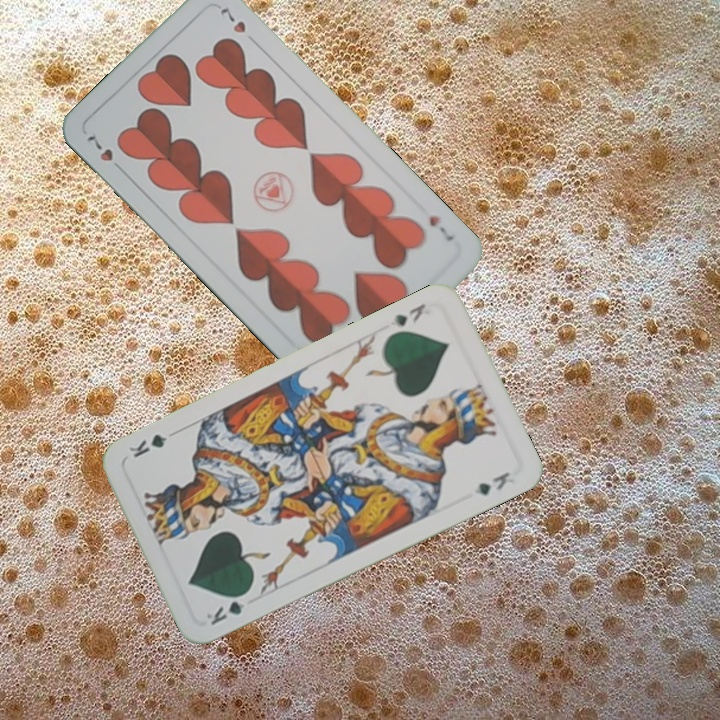GK: (202, 587, 253, 628), (386, 299, 428, 329)
H7: (82, 129, 128, 176), (425, 211, 457, 244)
